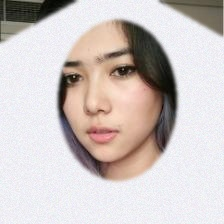Mukena: (6, 28, 224, 224)
